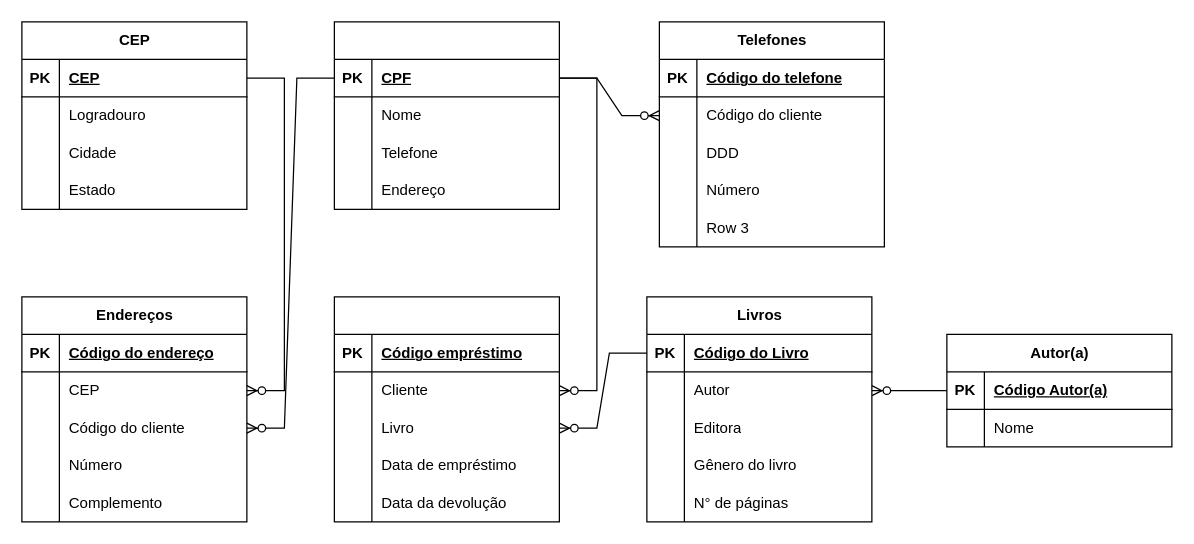
Image size: 1194x544. Some labels were removed from this diagram. Each missing label, with the box of its shape:
Clientes: (333, 21, 559, 209)
Empréstimos: (333, 296, 559, 522)
